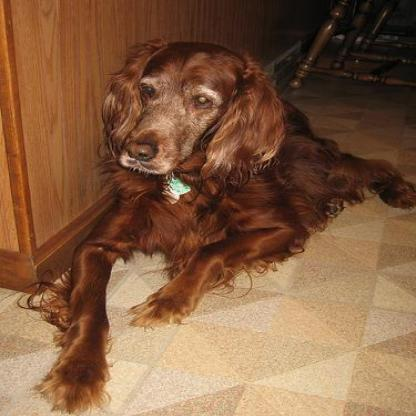Irish_setter: (19, 35, 413, 411)
